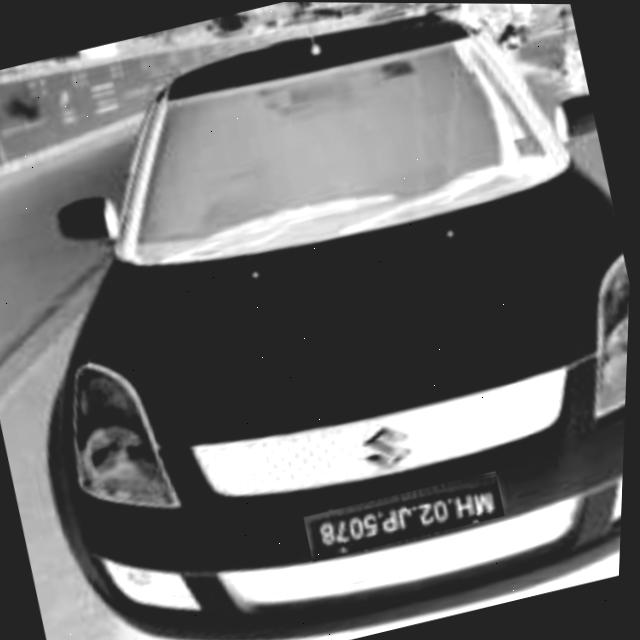Non_registered: (306, 469, 509, 562)
